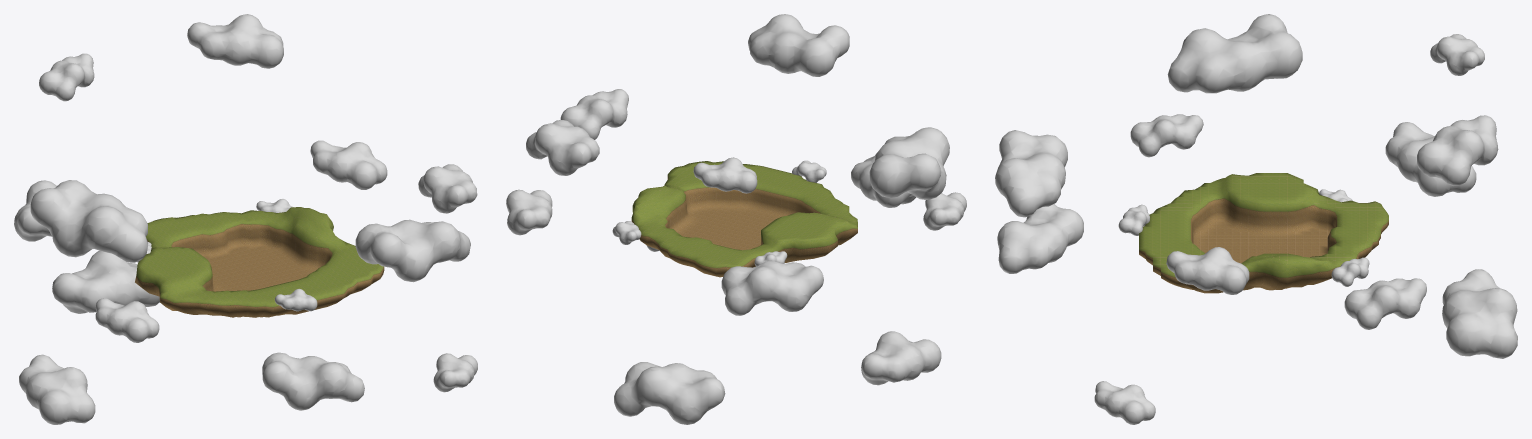
The model's file is floating_island_map_with_clouds.glb.
3 renders of one model, left to right at view 1: azimuth 30°, elevation 25°; view 2: azimuth 150°, elevation 25°; view 3: azimuth 270°, elevation 25°, orthographic. The views are drawn at different scales.
Parts seen in each view (by area): view 1: Grid, Mball.014, Mball.002, Mball.009, Mball.011, Mball.012, Mball.003, Mball.010, Mball.006, Mball.005, Mball.015, Mball.013 (+2 smaller); view 2: Grid, Mball.011, Mball.014, Mball.002, Mball.004, Mball.012, Mball.003, Mball.006, Mball.010, Mball.015, Mball.005, Mball.009 (+2 smaller); view 3: Grid, Mball.014, Mball.011, Mball.002, Mball.009, Mball.003, Mball.010, Mball.006, Mball.004, Mball.005, Mball.013, Mball.015 (+2 smaller).
Boxes of the visible parts, x1,y1,x2,y2 form: Grid: (135, 207, 384, 317); Mball.014: (30, 180, 147, 262); Mball.002: (355, 219, 470, 282); Mball.009: (262, 352, 364, 410); Mball.011: (52, 250, 159, 313); Mball.012: (19, 354, 95, 424); Mball.003: (187, 14, 283, 68); Mball.010: (310, 140, 387, 189); Mball.006: (418, 164, 477, 213); Mball.005: (95, 298, 159, 342); Mball.015: (39, 53, 94, 101); Mball.013: (433, 353, 477, 392); Grid: (631, 161, 857, 277); Mball.011: (614, 362, 725, 424); Mball.014: (869, 127, 949, 199); Mball.002: (748, 14, 849, 76); Mball.004: (721, 260, 823, 315); Mball.012: (861, 331, 941, 385); Mball.003: (526, 120, 599, 175); Mball.006: (560, 89, 628, 139); Mball.010: (506, 189, 552, 235); Mball.015: (693, 157, 757, 193); Mball.005: (923, 192, 966, 230); Mball.009: (851, 153, 916, 207); Grid: (1139, 173, 1388, 293); Mball.014: (1167, 14, 1302, 93); Mball.011: (1442, 269, 1517, 358); Mball.002: (995, 130, 1067, 217); Mball.009: (997, 204, 1083, 273); Mball.003: (1417, 115, 1498, 185); Mball.010: (1344, 278, 1426, 329); Mball.006: (1166, 247, 1249, 294); Mball.004: (1385, 122, 1476, 196); Mball.005: (1130, 114, 1203, 157); Mball.013: (1094, 381, 1155, 424); Mball.015: (1430, 34, 1484, 75).
Size of the model in its own units: 61.59 by 38.72 by 65.87.
Materials: 3 (2 with a texture image).
